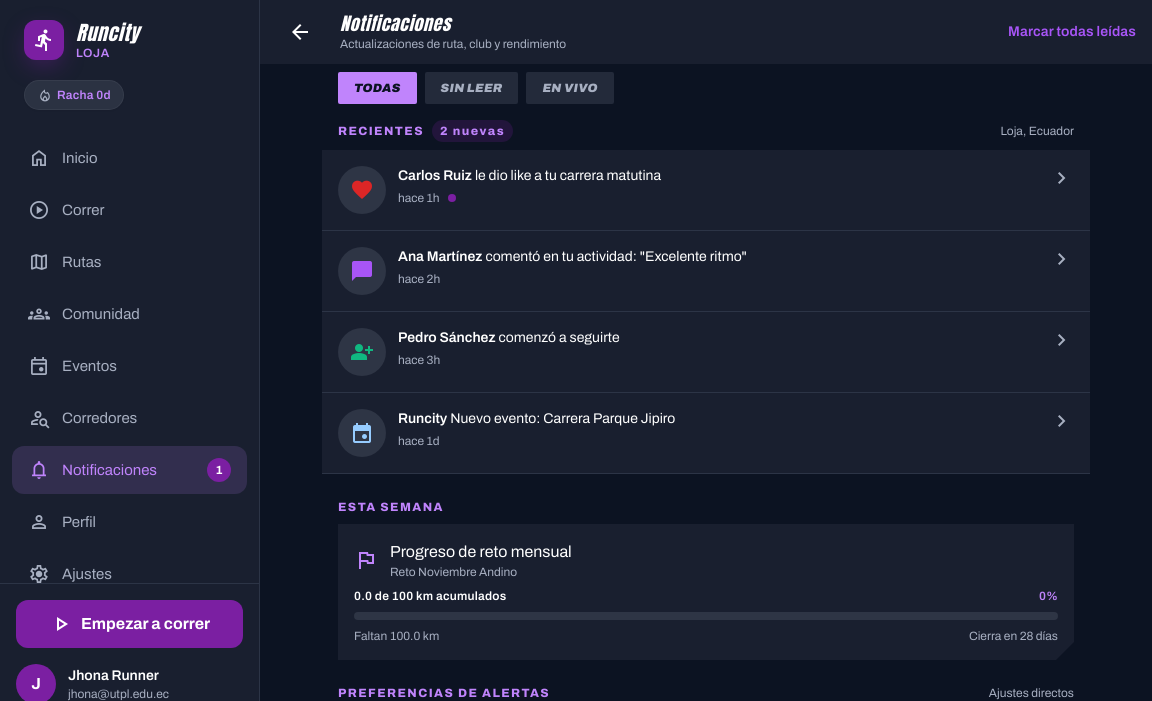
Test: notificaciones › respeta los ajustes desactivados
Expected: the number of buttons with test id "notificacion" is 4, [322,150,1090,231]; [322,231,1090,312]; [322,312,1090,393]; [322,393,1090,474]
Click the tab "En vivo".
click(570, 88)  # box [526,72,614,104]
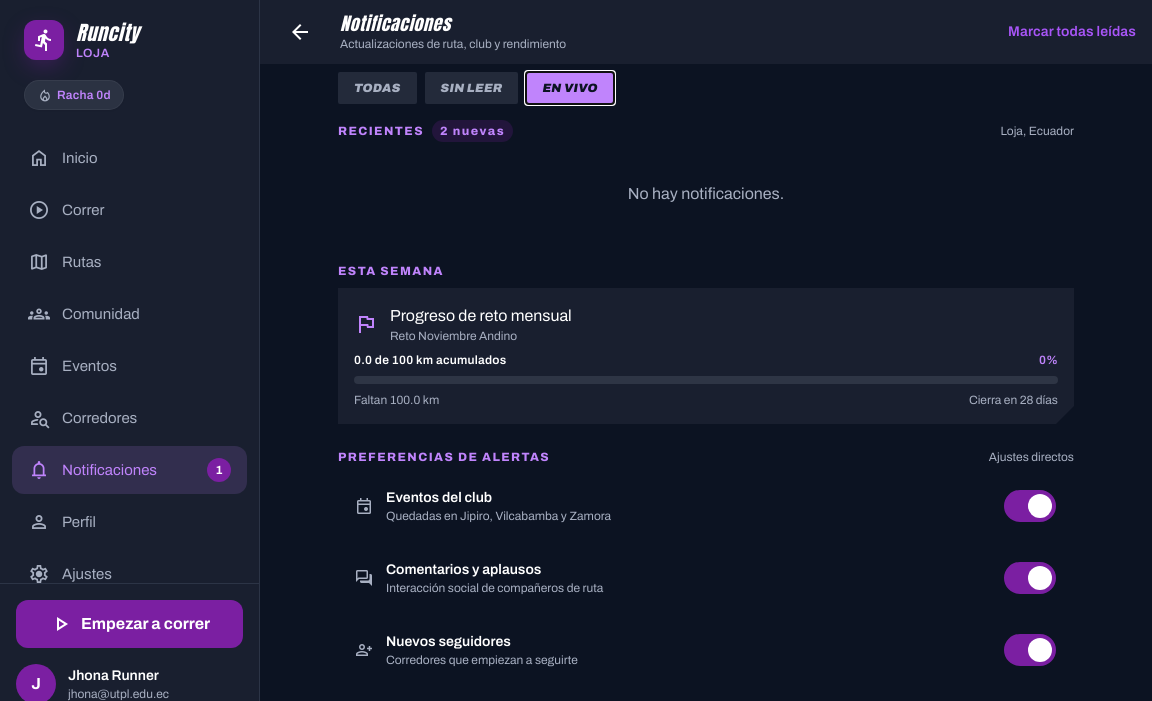
Result: the text "No hay notificaciones." is shown at [628,185,784,202]
